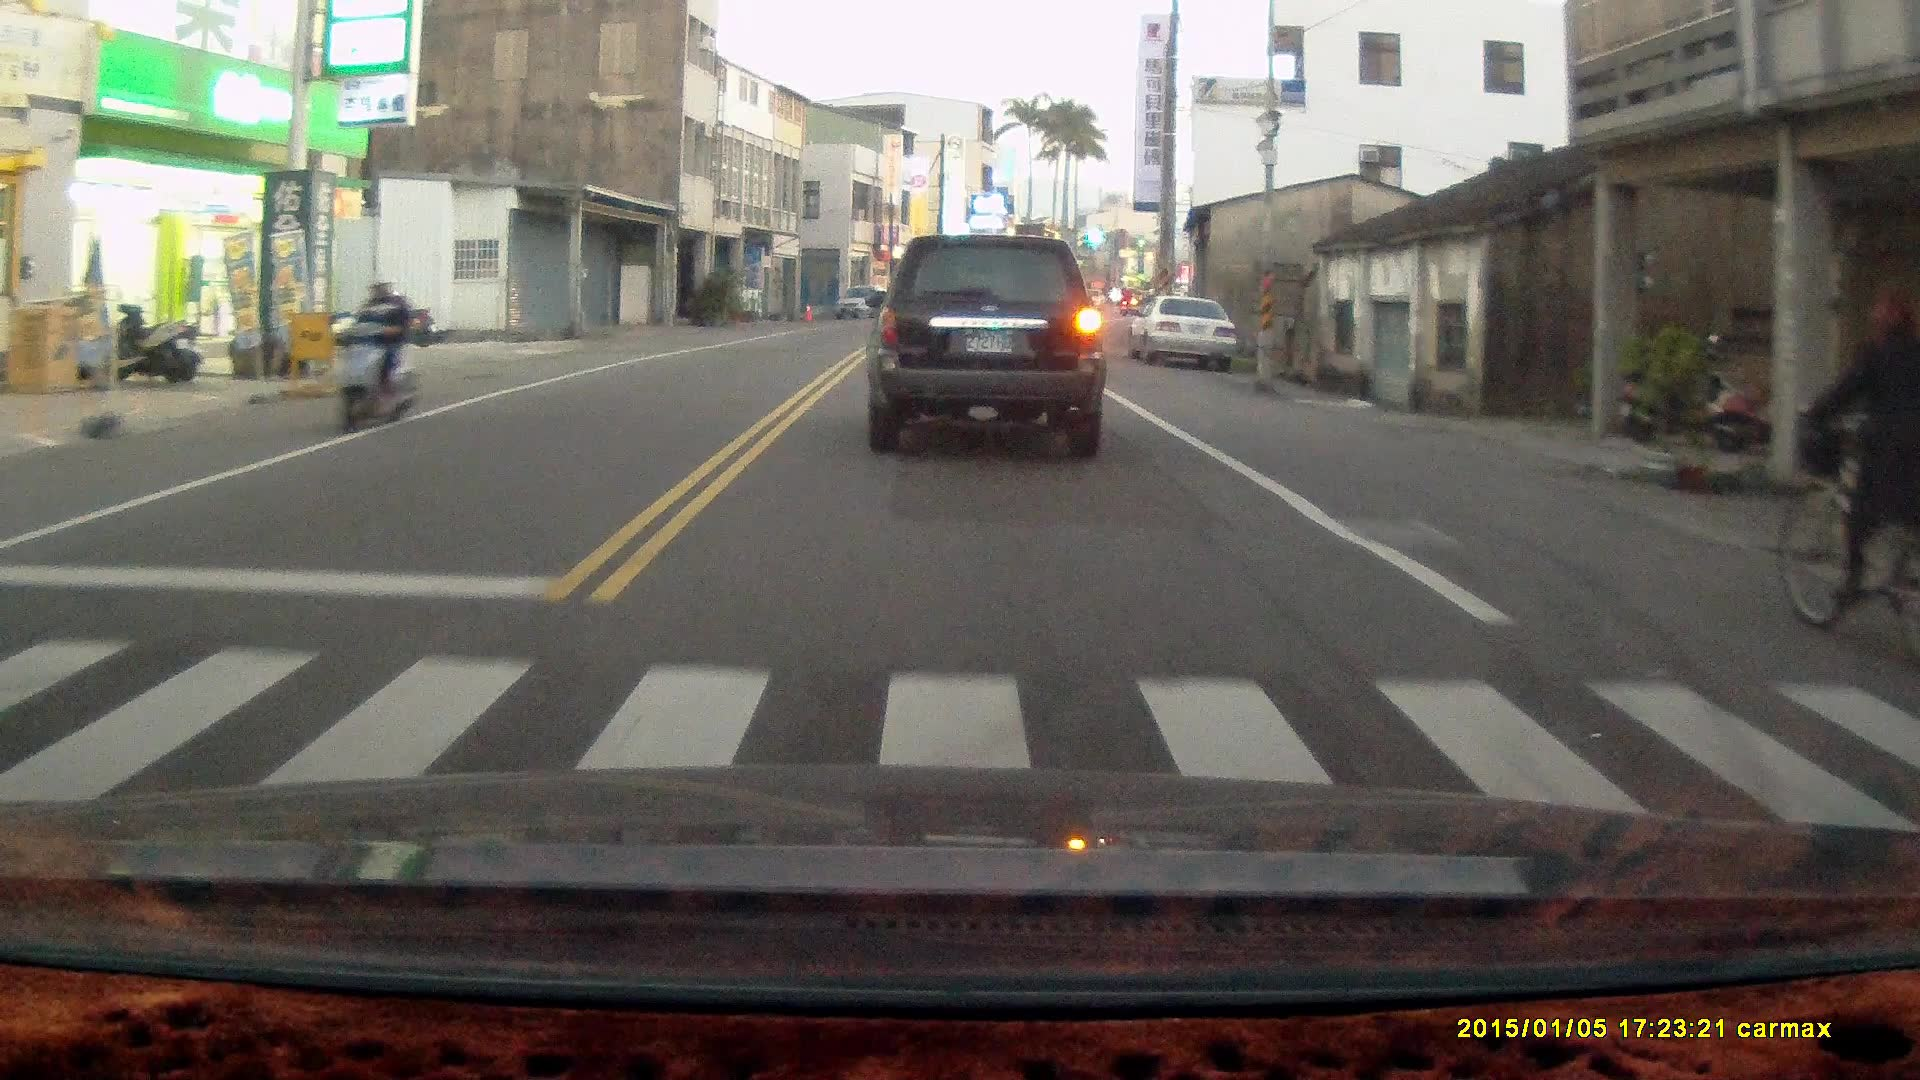rider: (1773, 279, 1920, 634), (327, 269, 420, 434)
vehicle: (866, 231, 1110, 457), (1131, 296, 1241, 368)
